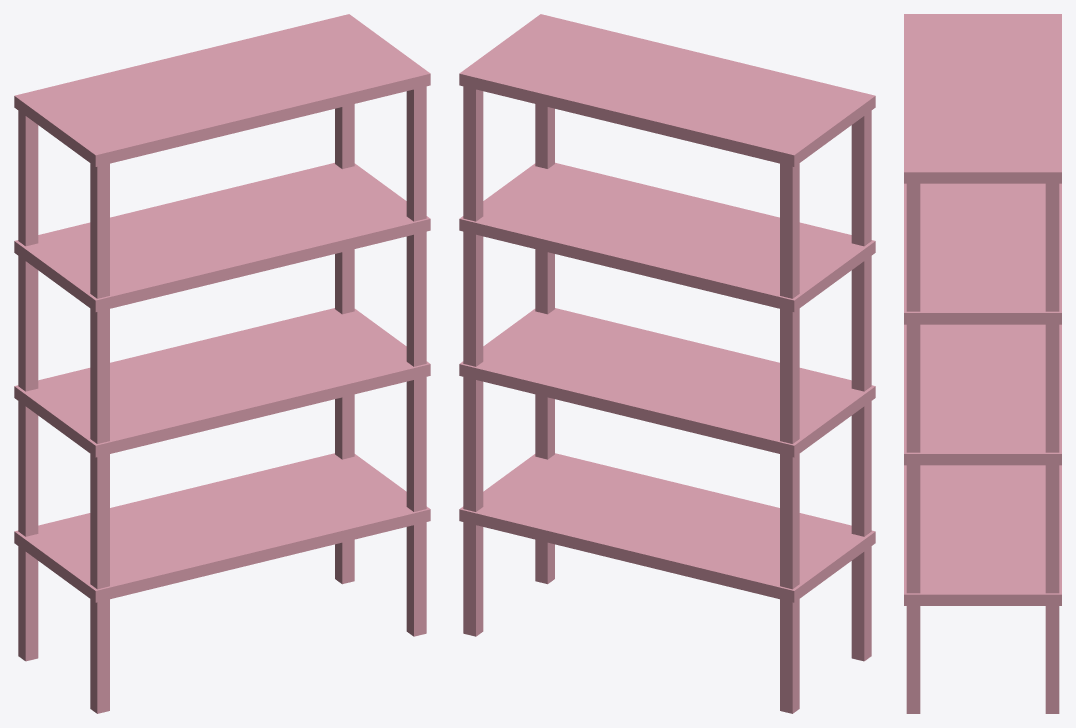
The model's file is MetalShelf.fbx.
The picture shows the model from 3 angles, left to right: view 1: azimuth 30°, elevation 25°; view 2: azimuth 150°, elevation 25°; view 3: azimuth 270°, elevation 25°; orthographic projection. The views are drawn at different scales.
Visible parts, largest first — view 1: MetalShelf; view 2: MetalShelf; view 3: MetalShelf.
Part boxes in pixels (x1=…): MetalShelf: x1=14, y1=14, x2=430, y2=713; MetalShelf: x1=459, y1=14, x2=875, y2=713; MetalShelf: x1=904, y1=14, x2=1061, y2=713.
Size of the model in its own units: 121 by 193 by 50.84.
